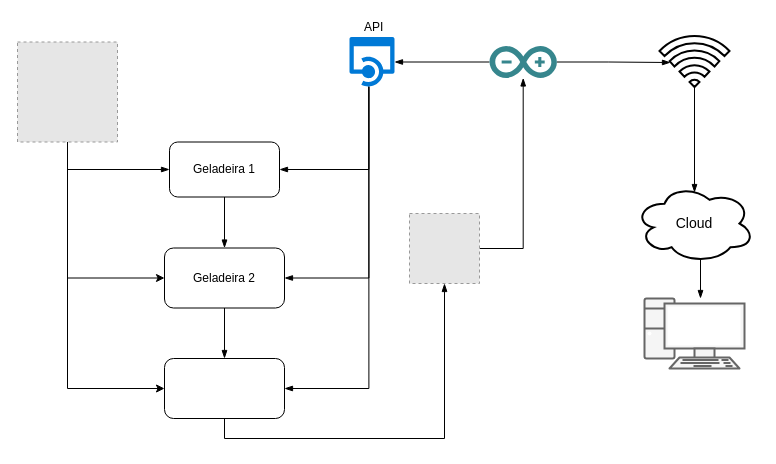
Image size: 776x464. Some labels were removed from this diagram. Grey dashed boxes stand in for pictures. Here are the shapes that lost their labels. From the top down, the centre of each, then its label:
pixel 694 333: Visualização dos dados
pixel 224 388: Geladeira 3
